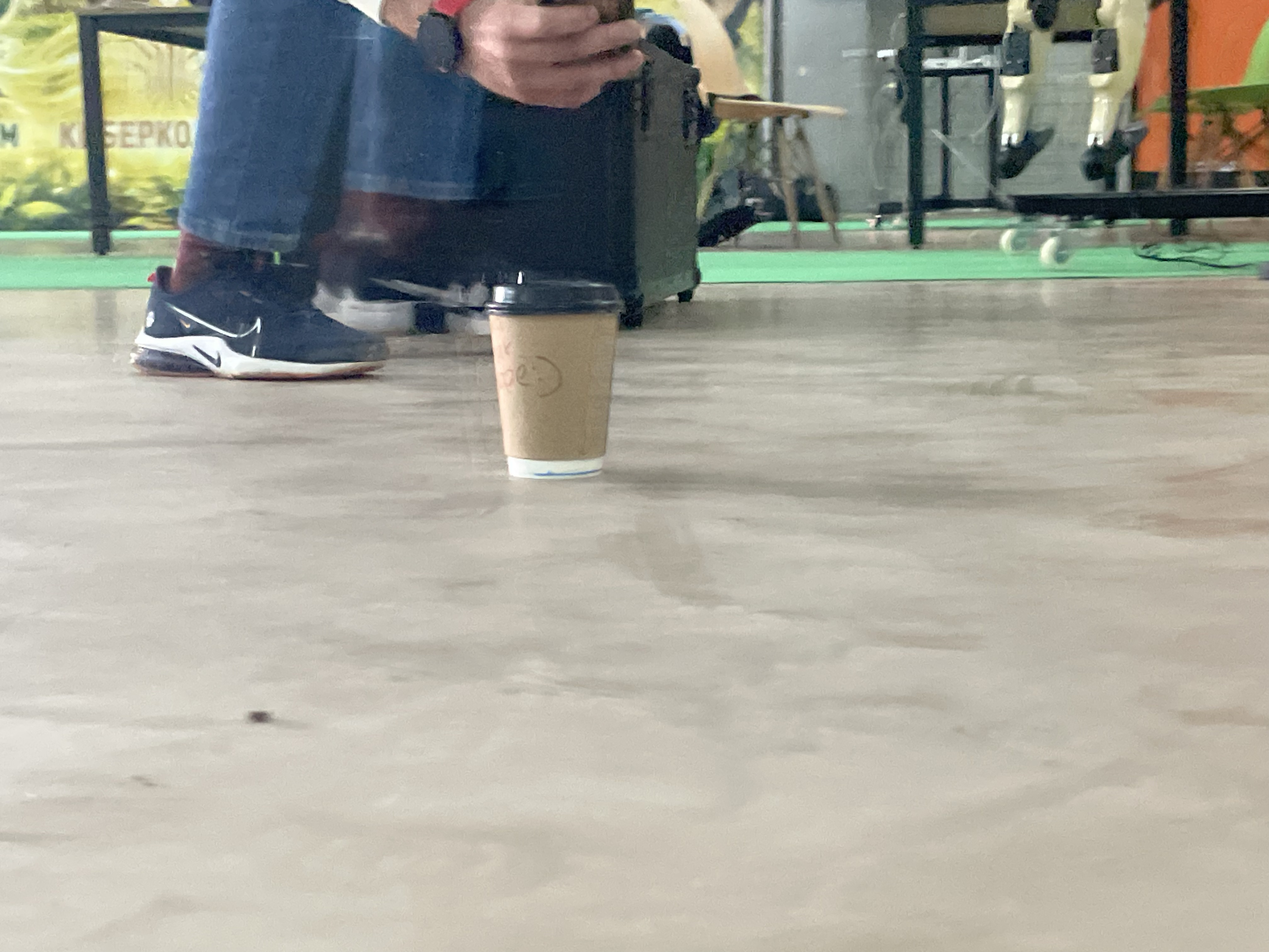cup: (487, 271, 619, 480)
